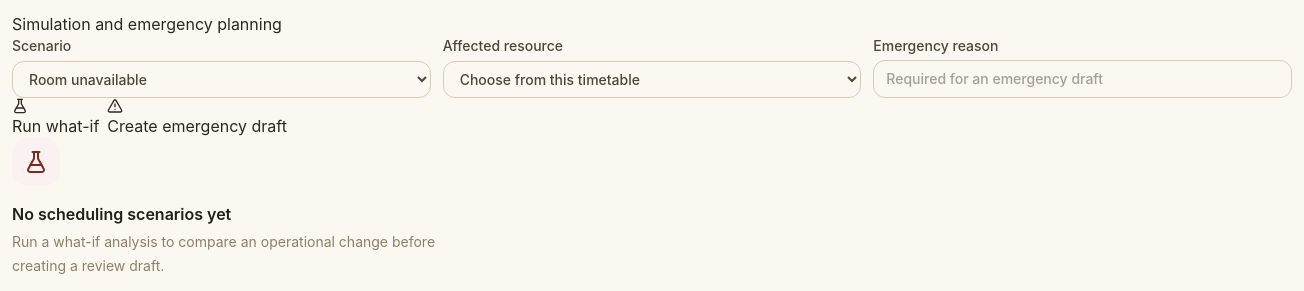
AuraScenarioPanel › runs a selected what-if scenario and renders the result
The image size is (1304, 291).
Expected: the heading "No scheduling scenarios yet" is shown, [12,204,231,224]
Select "Room 101" in the dropdown labelled "Affected resource" at {"x": 652, "y": 79}, box [443,60,861,98]
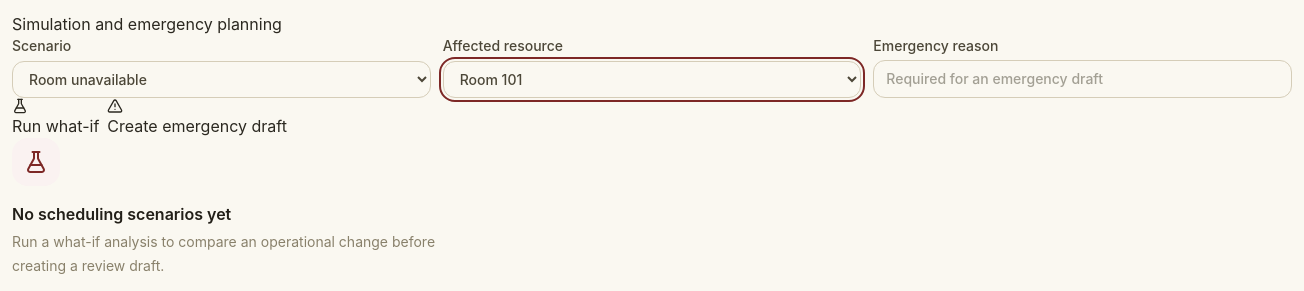
Click the button "Run what-if".
click(56, 118)  # box [12,98,99,138]
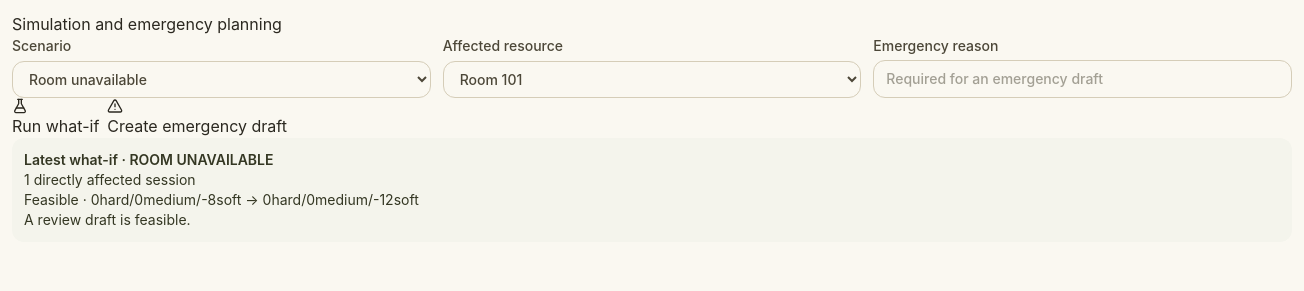
Expected: the text "A review draft is feasible." is shown, [24,211,191,228]
Expected: the text "Feasible · 0hard/0medium/-8soft → 0hard/0medium/-12soft" is shown, [24,191,419,208]
